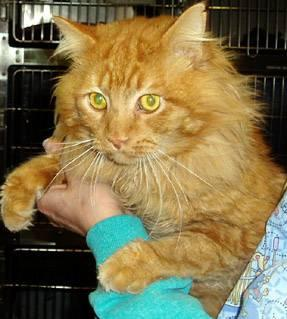cat: (1, 1, 286, 318)
